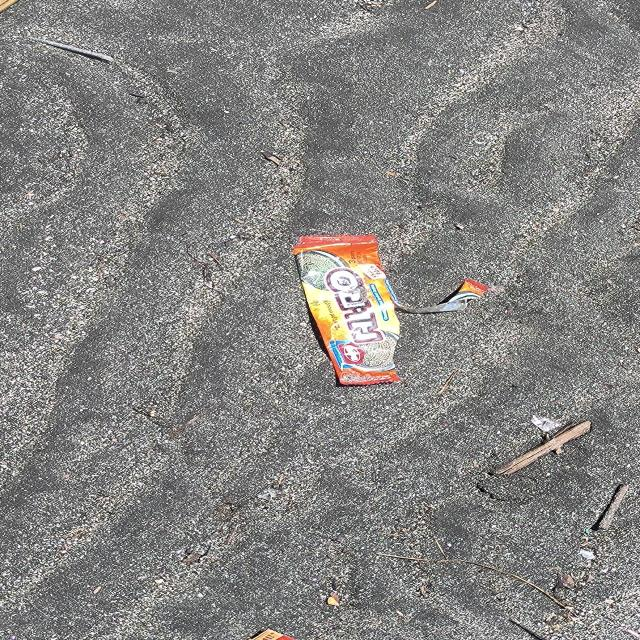plastic_waste: (291, 232, 399, 386)
